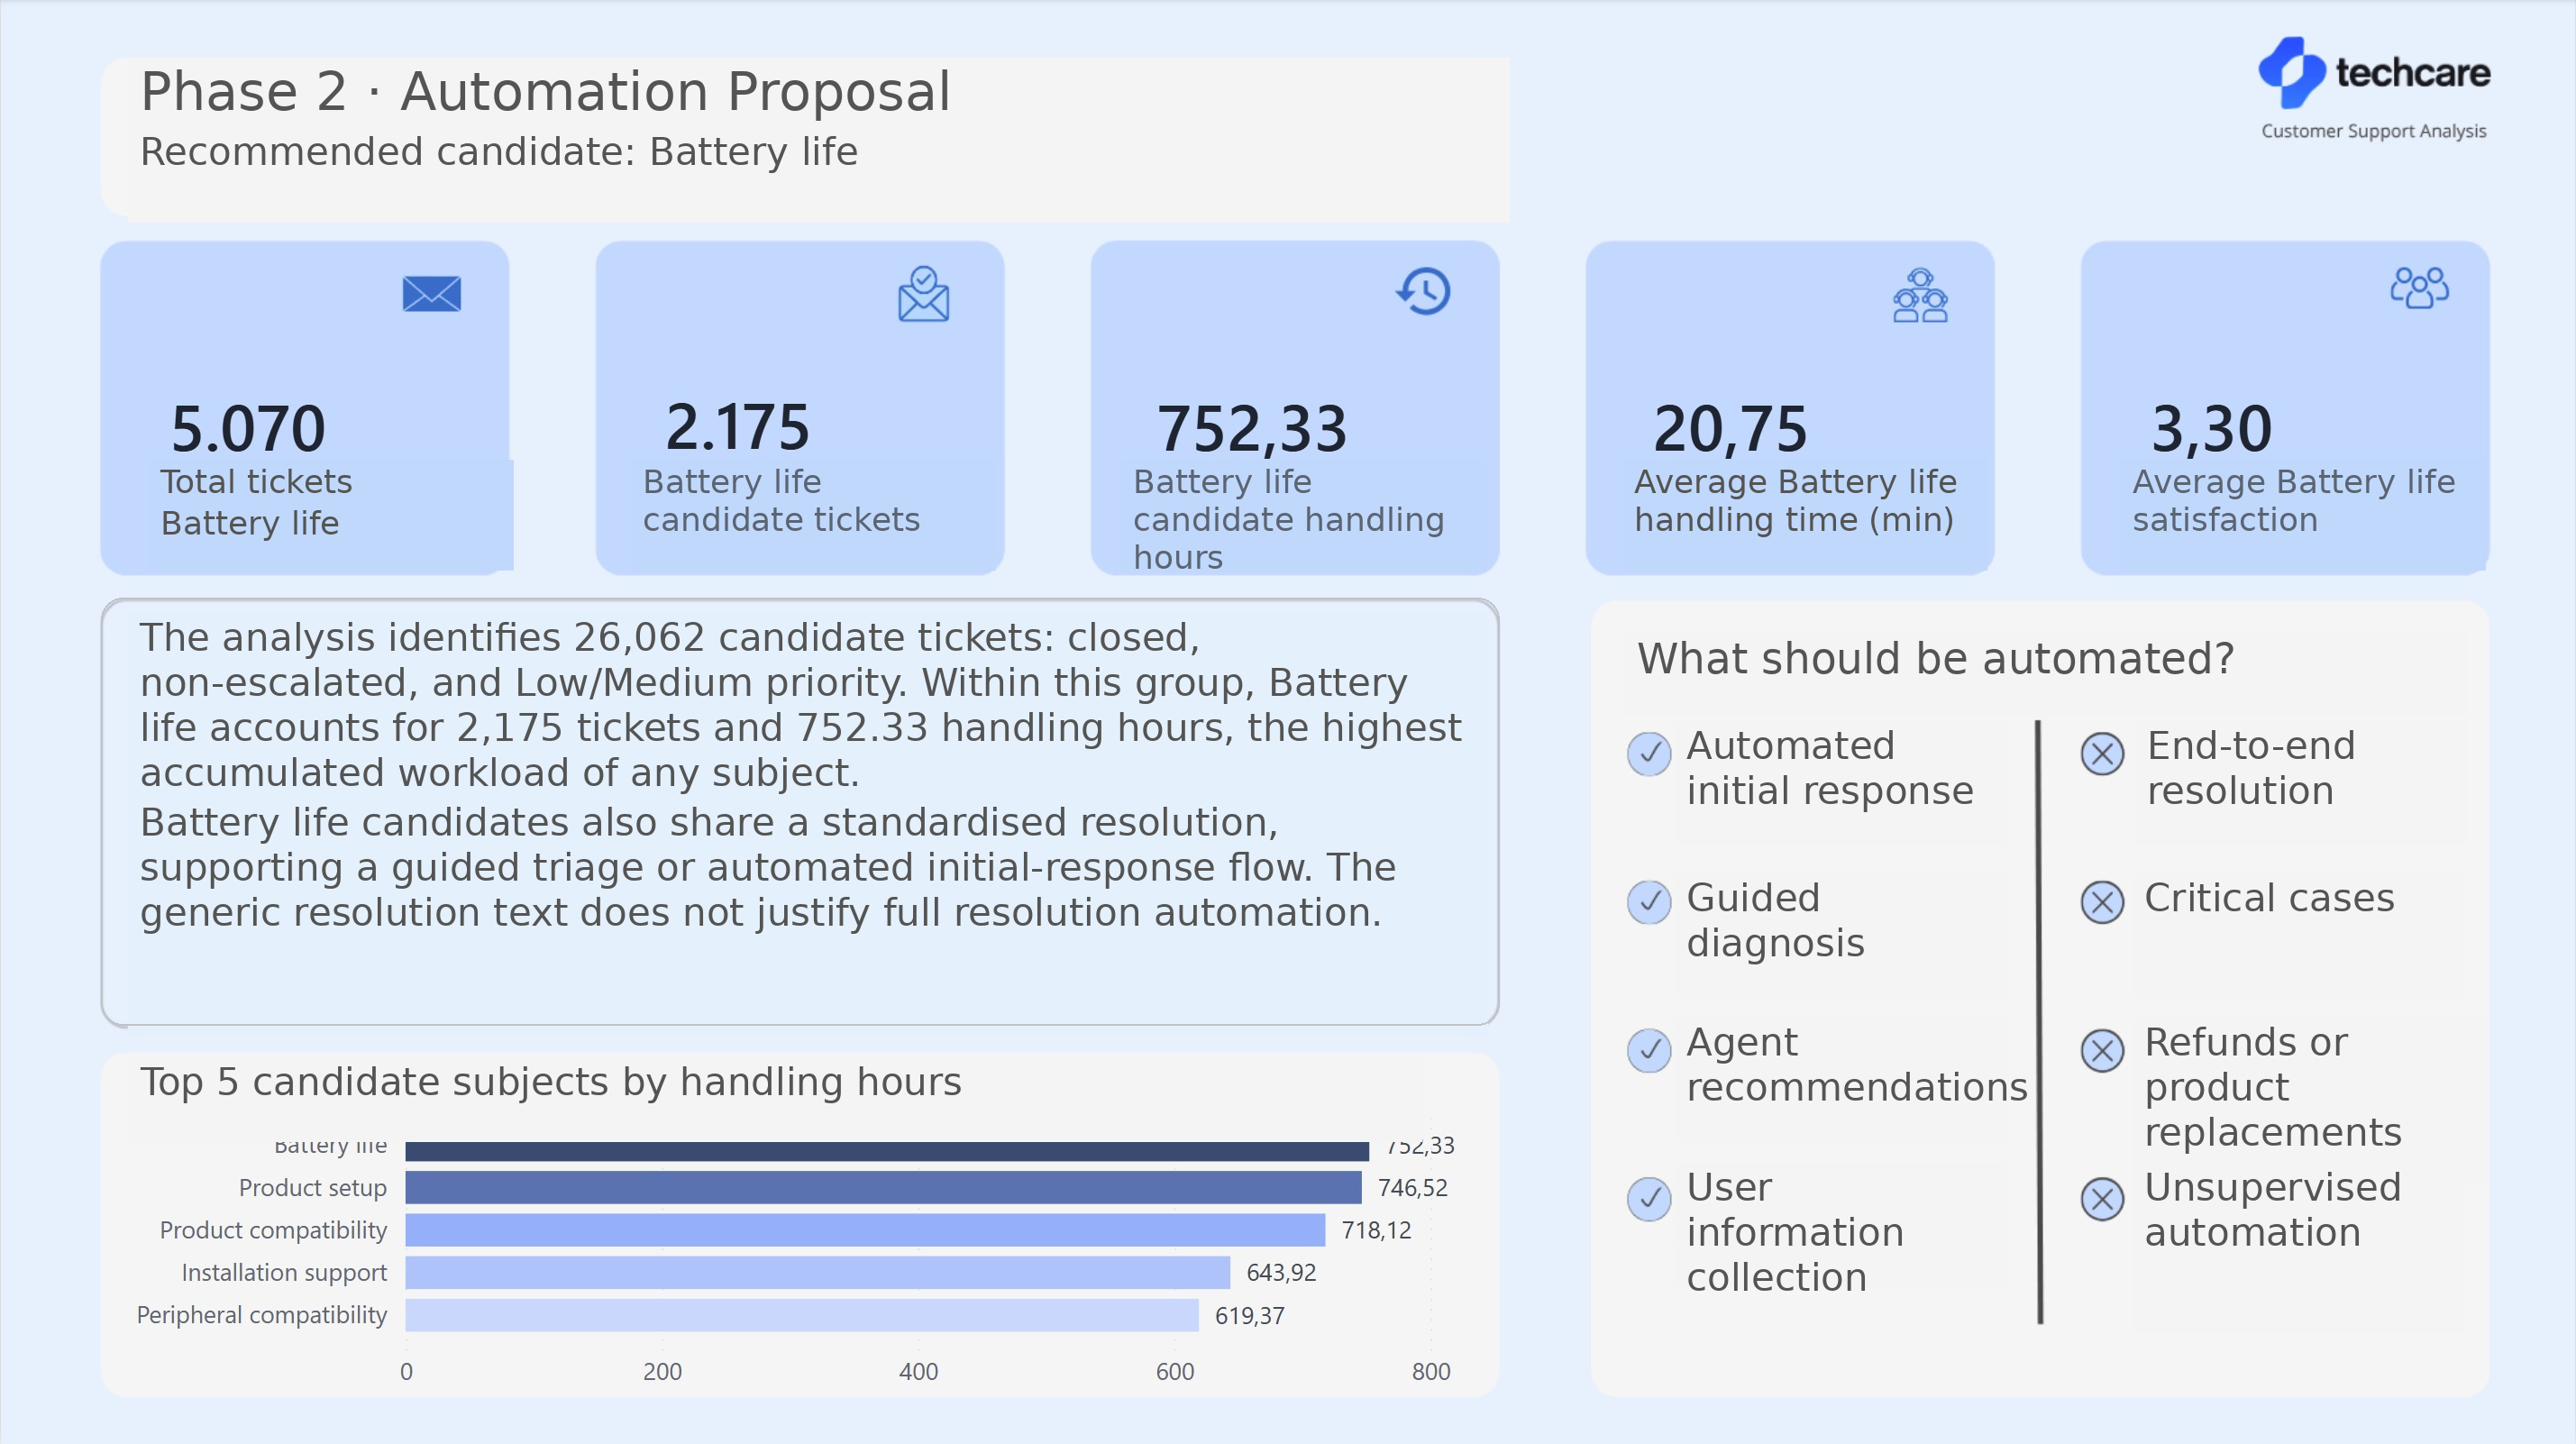

The dashboard page shown, as its layout file describes it:
{"tool":"powerbi","page":{"name":"Phase 2 · Automation Proposal","canvas":[1280,720],"ordinal":8},"visuals":[{"type":"cardVisual","fields":{"Data":["medidas_phase2.Battery Life Tickets Fase 2"]},"box":[54.8,152,192.8,118.4],"z":0},{"type":"textbox","box":[74,229,181,55],"z":1000},{"type":"textbox","box":[63.8,28.9,685.9,81.6],"z":2000},{"type":"textbox","box":[63.7,305.8,675.2,210.7],"z":3000},{"type":"cardVisual","fields":{"Data":["medidas_phase2.Battery Life Candidate Tickets Fase 2"]},"box":[301,151.8,192.8,118.4],"z":4000},{"type":"textbox","box":[313.5,229,181,55],"z":5000},{"type":"cardVisual","fields":{"Data":["medidas_phase2.Battery Life Handling Hours Fase 2"]},"box":[546.1,152,192.8,118.4],"z":6000},{"type":"textbox","box":[557.3,229,181,55],"z":7000},{"type":"cardVisual","fields":{"Data":["medidas_phase2.Battery Life Avg Handling Minutes Fase 2"]},"box":[792.4,152,192.8,118.4],"z":8000},{"type":"textbox","box":[806.1,229,181,55],"z":9000},{"type":"textbox","box":[63.9,527.3,642.3,41.8],"z":10000},{"type":"cardVisual","fields":{"Data":["medidas_phase2.Battery Life Avg Satisfaction Fase 2"]},"box":[1040,152,181,118.4],"z":11000},{"type":"textbox","box":[1053.7,229,181,55],"z":12000},{"type":"clusteredBarChart","fields":{"Y":["medidas_phase2.Candidate Handling Hours Fase 2"],"Category":["dim_asunto.asunto_nombre"]},"box":[49.9,541.3,688.4,160.6],"z":13000},{"type":"textbox","box":[807.3,314.7,417.7,41.7],"z":14000},{"type":"textbox","box":[832.2,359.5,164.7,61.5],"z":15000},{"type":"textbox","box":[832.2,435.4,164.7,61.5],"z":16000},{"type":"textbox","box":[832.2,507.5,164.7,61.5],"z":17000},{"type":"textbox","box":[832.2,579.7,164.7,61.5],"z":18000},{"type":"textbox","box":[1061.1,359.5,164.7,61.5],"z":19000},{"type":"textbox","box":[1059.8,435.4,164.7,61.5],"z":20000},{"type":"textbox","box":[1059.8,507.5,175.4,83.3],"z":21000},{"type":"textbox","box":[1059.8,579.7,164.7,84.3],"z":22000}]}

Visuals, with their boxes in screenshot pixels (x1, y1, x2, y2), scaled from the page's 1280x720 canvas onto the 2576x1444 screenshot:
cardVisual - medidas_phase2.Battery Life Tickets Fase 2: <region>110, 305, 498, 543</region>
textbox: <region>149, 460, 513, 570</region>
textbox: <region>128, 58, 1509, 222</region>
textbox: <region>128, 613, 1487, 1036</region>
cardVisual - medidas_phase2.Battery Life Candidate Tickets Fase 2: <region>606, 305, 994, 542</region>
textbox: <region>631, 460, 995, 570</region>
cardVisual - medidas_phase2.Battery Life Handling Hours Fase 2: <region>1099, 305, 1487, 543</region>
textbox: <region>1121, 460, 1485, 570</region>
cardVisual - medidas_phase2.Battery Life Avg Handling Minutes Fase 2: <region>1594, 305, 1983, 543</region>
textbox: <region>1622, 460, 1987, 570</region>
textbox: <region>129, 1057, 1421, 1141</region>
cardVisual - medidas_phase2.Battery Life Avg Satisfaction Fase 2: <region>2093, 305, 2457, 543</region>
textbox: <region>2121, 460, 2485, 570</region>
clusteredBarChart - medidas_phase2.Candidate Handling Hours Fase 2 x dim_asunto.asunto_nombre: <region>100, 1085, 1485, 1408</region>
textbox: <region>1625, 631, 2465, 715</region>
textbox: <region>1675, 721, 2006, 845</region>
textbox: <region>1675, 873, 2006, 997</region>
textbox: <region>1675, 1018, 2006, 1141</region>
textbox: <region>1675, 1163, 2006, 1286</region>
textbox: <region>2135, 721, 2467, 845</region>
textbox: <region>2133, 873, 2464, 997</region>
textbox: <region>2133, 1018, 2486, 1185</region>
textbox: <region>2133, 1163, 2464, 1331</region>
